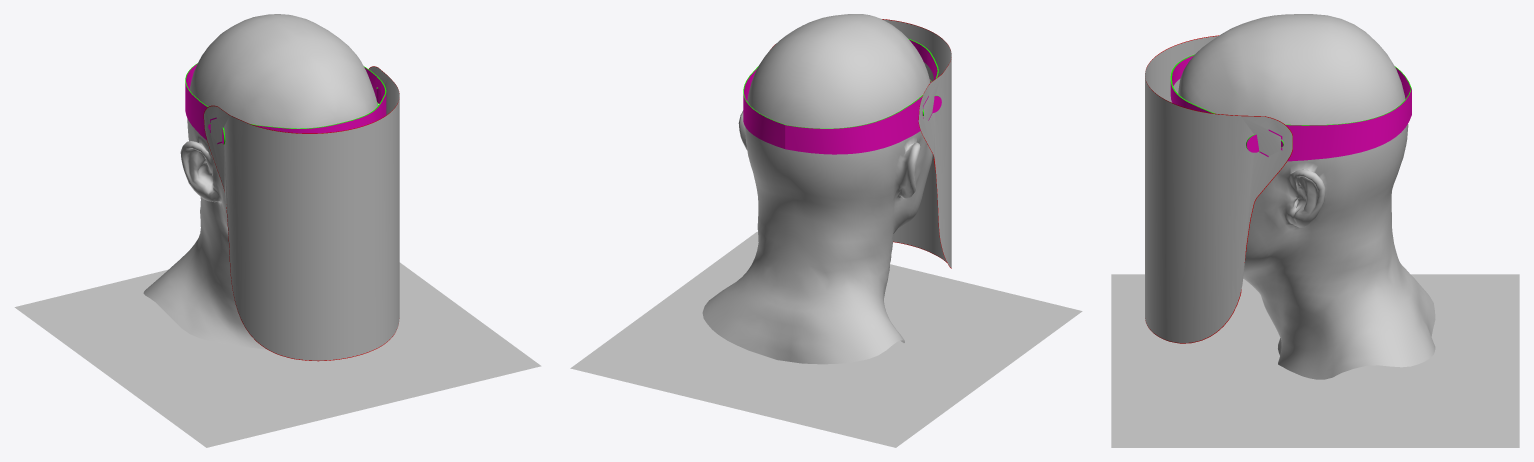
The model's file is todo_002.fbx.
The picture shows the model from 3 angles, left to right: view 1: azimuth 30°, elevation 25°; view 2: azimuth 150°, elevation 25°; view 3: azimuth 270°, elevation 25°; orthographic projection. The views are drawn at different scales.
Visible parts, largest first — view 1: VISOR, Plane, CABEZA, CORREA; view 2: CABEZA, Plane, VISOR, CORREA; view 3: CABEZA, Plane, VISOR, CORREA.
Part boxes in pixels (<box>): VISOR: <box>203,66,399,361</box>; Plane: <box>14,262,541,447</box>; CABEZA: <box>143,14,377,349</box>; CORREA: <box>185,63,386,144</box>; CABEZA: <box>702,14,932,364</box>; Plane: <box>570,231,1082,447</box>; VISOR: <box>770,19,951,268</box>; CORREA: <box>743,39,941,154</box>; CABEZA: <box>1178,14,1435,379</box>; Plane: <box>1111,274,1519,447</box>; VISOR: <box>1145,35,1292,343</box>; CORREA: <box>1170,54,1411,161</box>.
Bounding box in the file's own units: 427 × 386 × 424.
